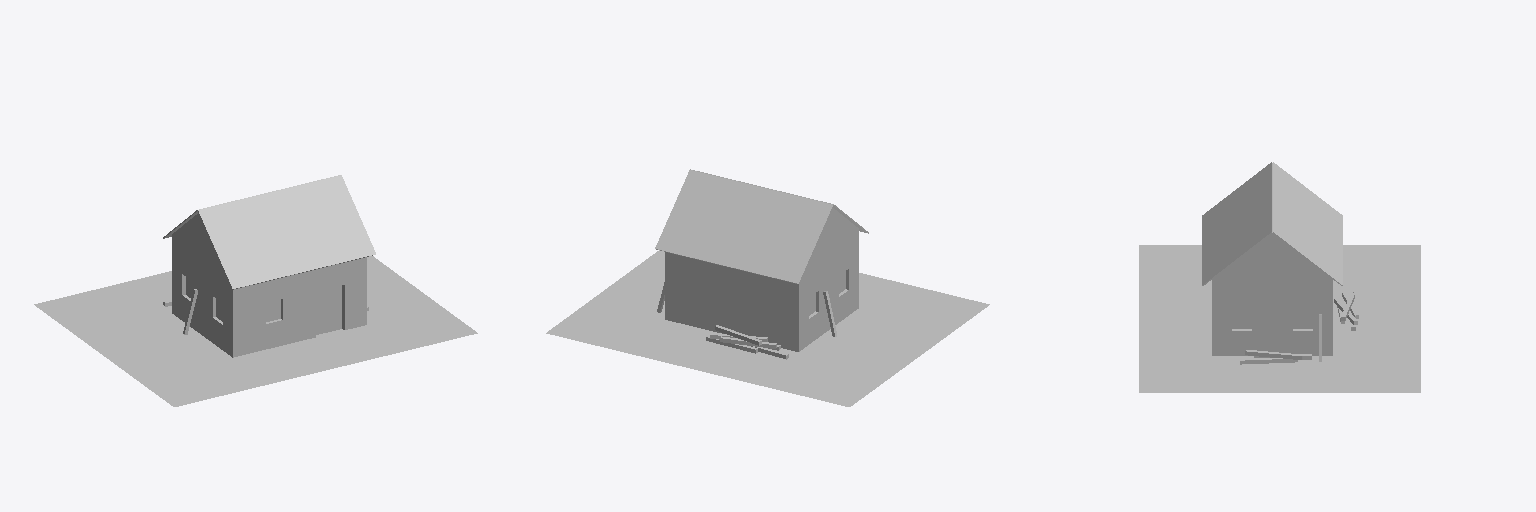
The model's file is house.obj.
The picture shows the model from 3 angles: view 1: azimuth 30°, elevation 25°; view 2: azimuth 150°, elevation 25°; view 3: azimuth 270°, elevation 25°; orthographic projection.
Visible parts, largest first — view 1: Plane.006_Plane.002, Cube, Cube.001, Plane; view 2: Plane.006_Plane.002, Cube, Cube.002_Cube.001; view 3: Plane.006_Plane.002, Cube, Cube.001, Cube.002_Cube.001.
Boxes of the visible parts, box(x1,y1,x2,y2) form: Plane.006_Plane.002: box(34, 256, 477, 406); Cube: box(172, 213, 366, 357); Cube.001: box(198, 175, 375, 289); Plane: box(316, 285, 341, 334); Plane.006_Plane.002: box(546, 250, 989, 406); Cube: box(665, 208, 858, 351); Cube.002_Cube.001: box(655, 170, 833, 283); Plane.006_Plane.002: box(1139, 245, 1420, 392); Cube: box(1212, 233, 1332, 355); Cube.001: box(1202, 162, 1272, 285); Cube.002_Cube.001: box(1273, 162, 1342, 285).
Bounding box in the file's own units: 9.12 × 3.66 × 7.3.